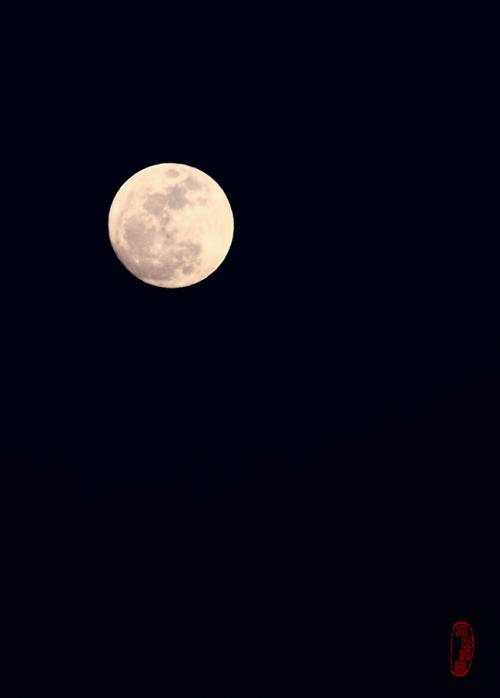moon: (107, 162, 233, 290)
